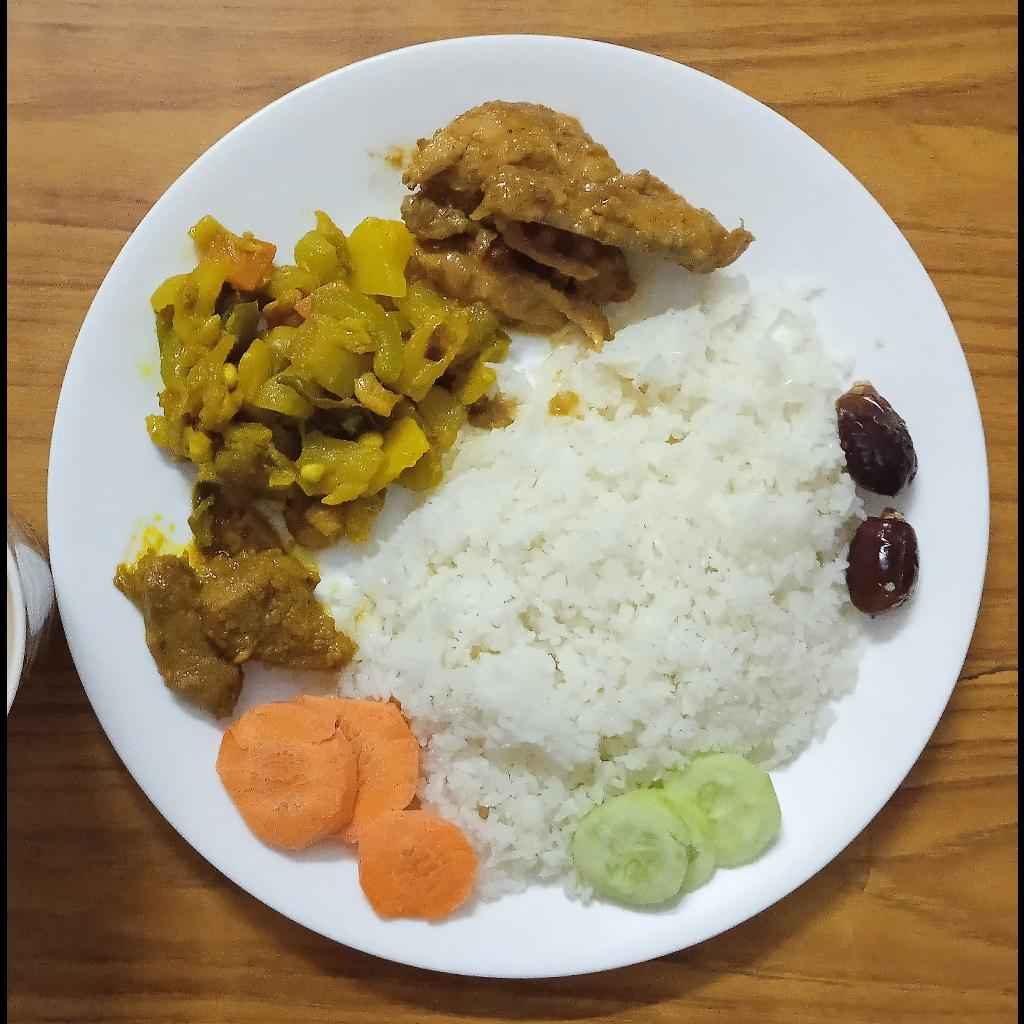beef: (105, 544, 360, 723)
carrot: (214, 695, 476, 921)
chicken: (401, 97, 754, 347)
cucumber: (571, 752, 782, 904)
dates: (836, 382, 918, 501), (846, 506, 920, 619)
rice: (323, 267, 862, 901)
vegetable: (142, 213, 513, 548)
